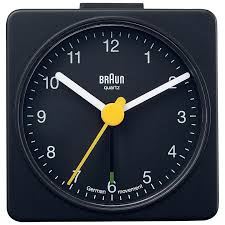alarm_clock: (6, 0, 219, 220)
